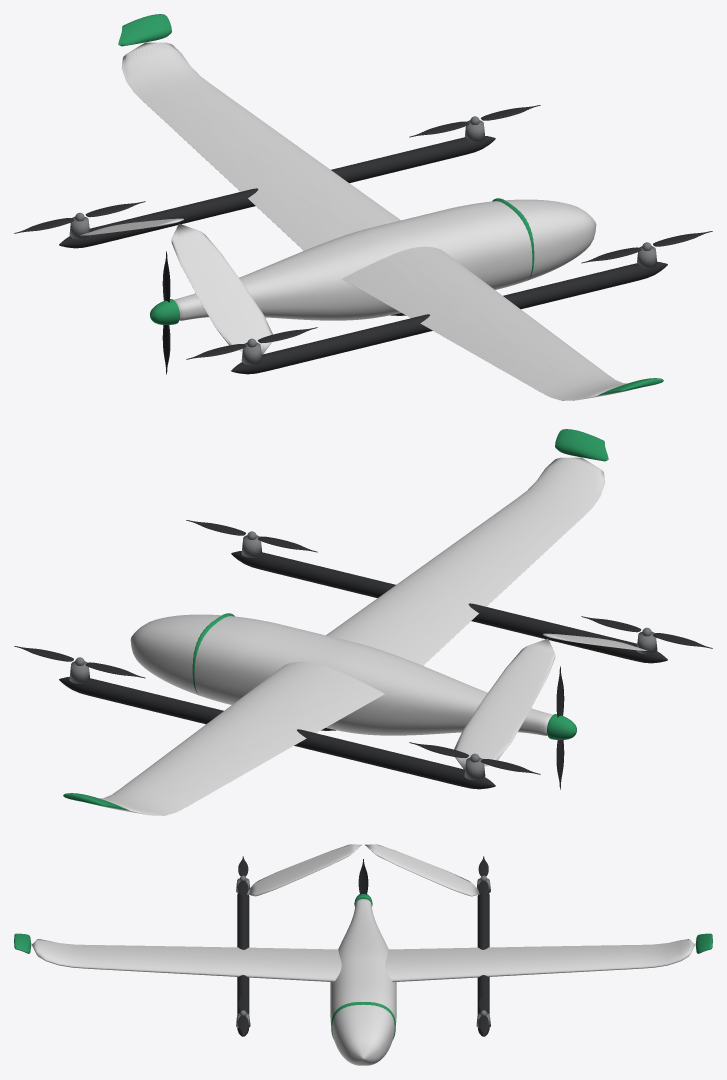
The model's file is vtol.glb.
3 views of the same model, one above another, from view 1: azimuth 30°, elevation 25°; view 2: azimuth 150°, elevation 25°; view 3: azimuth 270°, elevation 25° (orthographic). The views are drawn at different scales.
Parts seen in each view (by area): view 1: wing, fuselage, boom_-1, tail_-1, boom_1, wingtip_1, tail_1, spinner; view 2: wing, fuselage, boom_1, tail_1, boom_-1, wingtip_-1, tail_-1, spinner; view 3: wing, fuselage, tail_1, tail_-1, boom_-1, boom_1.
Part boxes in pixels (box(x1,y1,x2,y2)): wing: box(122, 42, 631, 400); fuselage: box(174, 199, 596, 320); boom_-1: box(231, 262, 667, 374); tail_-1: box(171, 223, 272, 354); boom_1: box(59, 136, 495, 248); wingtip_1: box(118, 14, 171, 46); tail_1: box(79, 218, 183, 235); spinner: box(150, 299, 179, 324); wing: box(95, 457, 604, 815); fuselage: box(130, 614, 552, 735); boom_1: box(59, 677, 495, 789); tail_1: box(454, 638, 555, 769); boom_-1: box(231, 551, 667, 663); wingtip_-1: box(555, 429, 608, 461); tail_-1: box(543, 633, 647, 650); spinner: box(547, 714, 576, 739); wing: box(32, 939, 694, 982); fuselage: box(330, 899, 396, 1065); tail_1: box(365, 844, 479, 896); tail_-1: box(247, 844, 361, 896); boom_-1: box(237, 893, 249, 1036); boom_1: box(477, 893, 489, 1036).
Bounding box in the file's own units: 1.52 × 0.4111 × 2.5.
